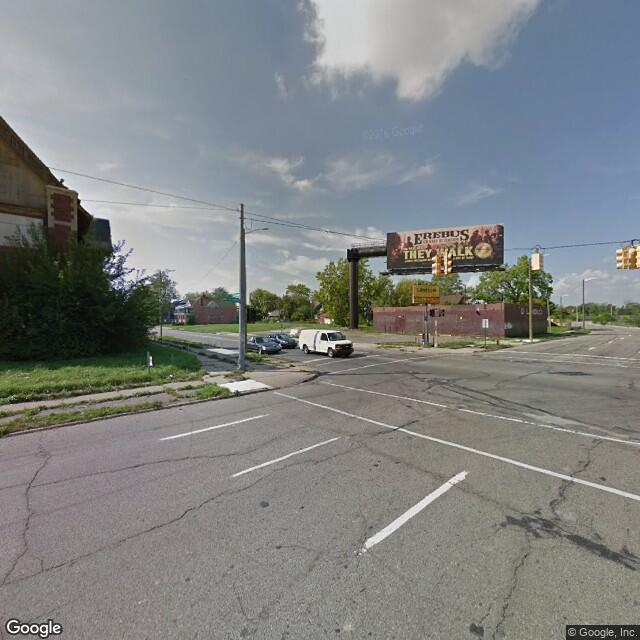litter: (233, 389, 241, 396), (167, 373, 172, 378)
